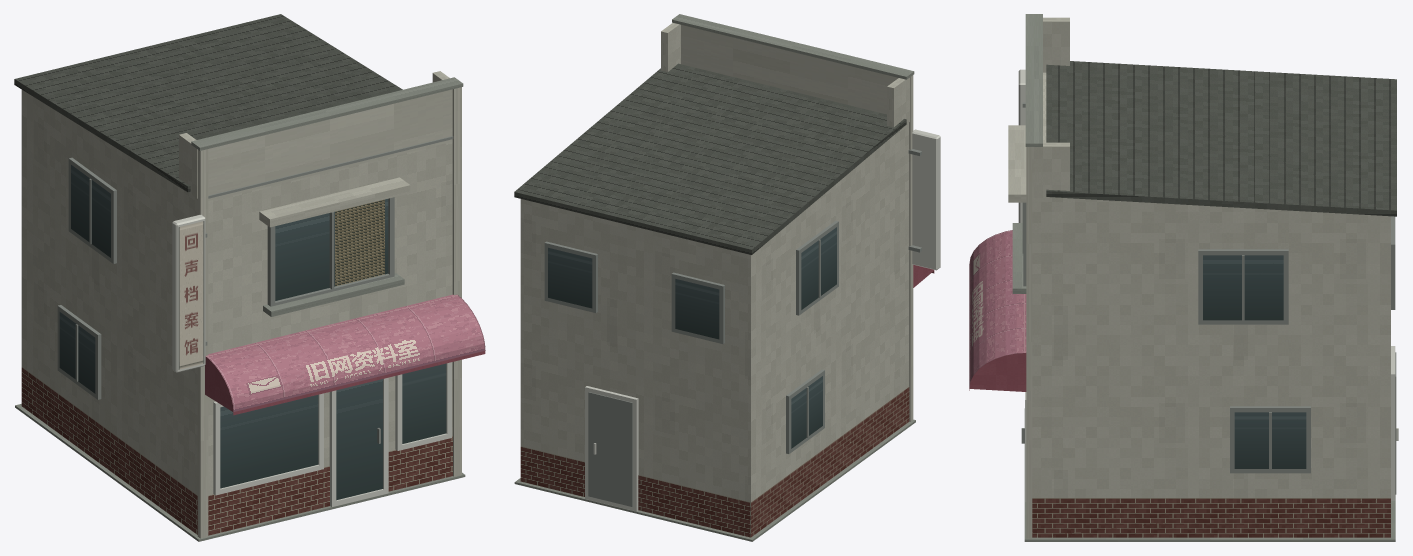
Rendered from Archive_01.glb.
3 renders of one model, left to right at view 1: azimuth 30°, elevation 25°; view 2: azimuth 150°, elevation 25°; view 3: azimuth 270°, elevation 25°, orthographic. The views are drawn at different scales.
Parts seen in each view (by area): view 1: Archive_Main_Body, Archive_Rear_Low_Slope_Roof, Archive_Curved_Rose_Awning, Archive_High_Front_Parapet, Archive_Upper_Main_Window_Glass, Archive_Shop_Left_Window_Glass, Archive_Left_Brick, Archive_Offset_Glass_Door_Glass, Archive_Front_Brick_Left, Archive_Vertical_Sign_Lettering, Archive_Parapet_Coping, Archive_Facade_Edge (+21 smaller); view 2: Archive_Main_Body, Archive_Rear_Low_Slope_Roof, Archive_High_Front_Parapet, Archive_Rear_Brick, Archive_Left_Brick, Archive_Rear_Door, Archive_Vertical_Sign_Frame, Archive_Parapet_Coping, Archive_Rear_Window_Glass.001, Archive_Rear_Window_Glass, Archive_Base_Platform, Archive_Side_-1_Upper_Glass (+9 smaller); view 3: Archive_Main_Body, Archive_Rear_Low_Slope_Roof, Archive_Right_Brick, Archive_Curved_Rose_Awning, Archive_Side_1_Upper_Glass, Archive_Side_1_Lower_Glass, Archive_Facade_Edge.001, Archive_Parapet_Coping, Archive_Base_Platform, Archive_Short_Parapet_Return.001, Archive_Side_1_Upper_Backing, Archive_Awning_End_Cheek.001 (+6 smaller).
Boxes of the visible parts, bbox=[...] form: Archive_Main_Body: bbox=[21, 90, 452, 495]; Archive_Rear_Low_Slope_Roof: bbox=[14, 14, 402, 192]; Archive_Curved_Rose_Awning: bbox=[205, 294, 485, 415]; Archive_High_Front_Parapet: bbox=[195, 89, 452, 200]; Archive_Upper_Main_Window_Glass: bbox=[275, 199, 388, 300]; Archive_Shop_Left_Window_Glass: bbox=[220, 395, 318, 488]; Archive_Left_Brick: bbox=[21, 367, 197, 534]; Archive_Offset_Glass_Door_Glass: bbox=[336, 379, 382, 500]; Archive_Front_Brick_Left: bbox=[208, 466, 329, 535]; Archive_Vertical_Sign_Lettering: bbox=[178, 221, 204, 369]; Archive_Parapet_Coping: bbox=[191, 77, 463, 150]; Archive_Facade_Edge: bbox=[197, 149, 208, 538]; Archive_Main_Body: bbox=[520, 124, 908, 537]; Archive_Rear_Low_Slope_Roof: bbox=[514, 63, 906, 254]; Archive_High_Front_Parapet: bbox=[681, 25, 908, 125]; Archive_Rear_Brick: bbox=[520, 446, 750, 537]; Archive_Left_Brick: bbox=[751, 387, 909, 537]; Archive_Rear_Door: bbox=[588, 392, 632, 506]; Archive_Vertical_Sign_Frame: bbox=[912, 129, 940, 270]; Archive_Parapet_Coping: bbox=[672, 14, 914, 79]; Archive_Rear_Window_Glass.001: bbox=[548, 247, 592, 308]; Archive_Rear_Window_Glass: bbox=[675, 279, 719, 339]; Archive_Base_Platform: bbox=[514, 419, 915, 541]; Archive_Side_-1_Upper_Glass: bbox=[801, 227, 836, 309]; Archive_Main_Body: bbox=[1032, 72, 1390, 497]; Archive_Rear_Low_Slope_Roof: bbox=[1046, 61, 1396, 216]; Archive_Right_Brick: bbox=[1032, 498, 1390, 537]; Archive_Curved_Rose_Awning: bbox=[969, 230, 1026, 390]; Archive_Side_1_Upper_Glass: bbox=[1203, 255, 1283, 320]; Archive_Side_1_Lower_Glass: bbox=[1234, 412, 1306, 468]; Archive_Facade_Edge.001: bbox=[1026, 147, 1032, 538]; Archive_Parapet_Coping: bbox=[1025, 14, 1042, 146]; Archive_Base_Platform: bbox=[1024, 408, 1395, 541]; Archive_Short_Parapet_Return.001: bbox=[1033, 142, 1069, 197]; Archive_Side_1_Upper_Backing: bbox=[1198, 249, 1288, 324]; Archive_Awning_End_Cheek.001: bbox=[969, 353, 1026, 391].
Size of the model in its own units: 5.66 by 7.28 by 7.13.
11 materials, 9 textured.
